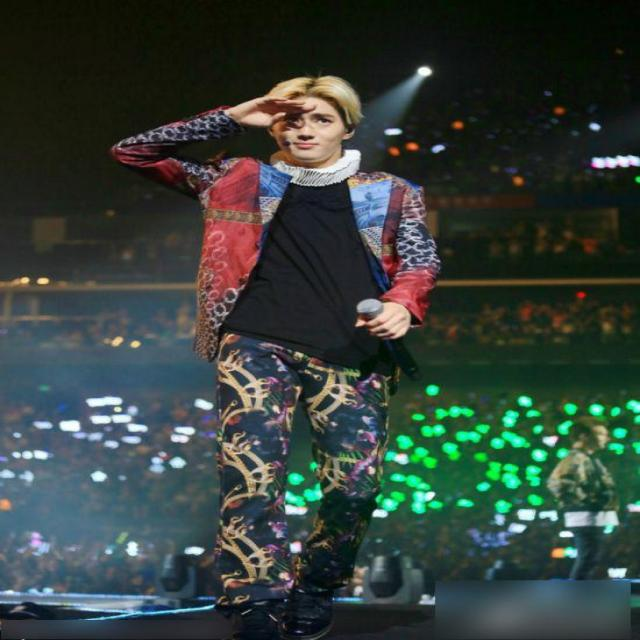obstacle: (115, 66, 440, 624)
